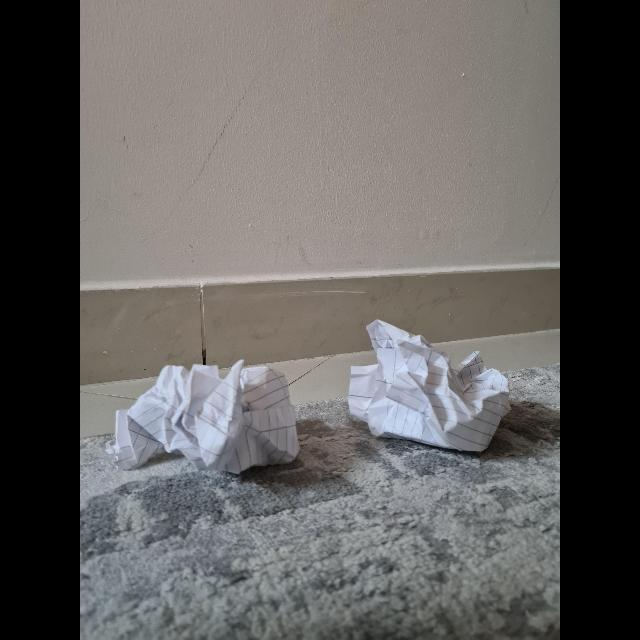scrap_paper: (349, 316, 515, 458), (112, 350, 302, 470)
